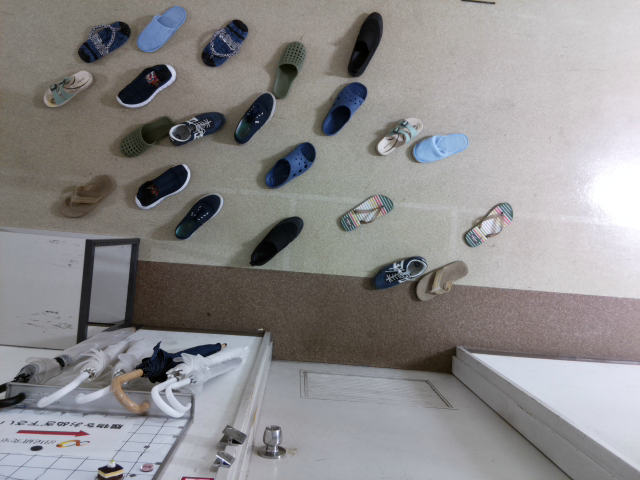Copy of Copy of Copy of Copy of Copy of Copy of Copy of sandal: (60, 174, 116, 217)
Copy of Copy of Copy of Copy of Copy of Copy of Copy of shoes: (371, 255, 427, 288)
Copy of Copy of Copy of Copy of Copy of Copy of sandal: (77, 20, 130, 63)
Copy of Copy of Copy of Copy of Copy of Copy of shoes: (248, 215, 304, 267)
Copy of Copy of Copy of Copy of Copy of sandal: (43, 71, 93, 108)
Copy of Copy of Copy of Copy of Copy of shoes: (347, 10, 384, 78)
Copy of Copy of Copy of Copy of Copy of slipper: (137, 4, 187, 52)
Copy of Copy of Copy of Copy of sandal: (201, 18, 249, 67)
Copy of Copy of Copy of Copy of shoes: (115, 63, 175, 108)
Copy of Copy of Copy of Copy of slipper: (120, 117, 173, 157)
Copy of Copy of Copy of sandal: (376, 116, 423, 155)
Copy of Copy of Copy of shoes: (234, 91, 276, 144)
Copy of Copy of Copy of slipper: (273, 40, 306, 99)
Copy of Copy of sandal: (416, 260, 468, 301)
Copy of Copy of shoes: (167, 110, 225, 146)
Copy of Copy of slipper: (264, 141, 316, 188)
Copy of sandal: (339, 194, 394, 231)
Copy of shoes: (134, 163, 190, 210)
Copy of slipper: (321, 82, 368, 136)
sandal: (464, 202, 513, 248)
shoes: (174, 191, 222, 239)
slipper: (411, 132, 468, 162)
